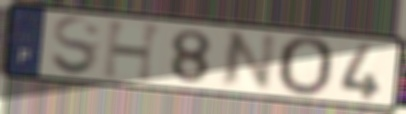4: (338, 40, 385, 104)
8: (168, 28, 217, 85)
H: (100, 18, 167, 85)
N: (216, 29, 279, 91)
O: (276, 34, 339, 100)
S: (49, 14, 104, 79)
